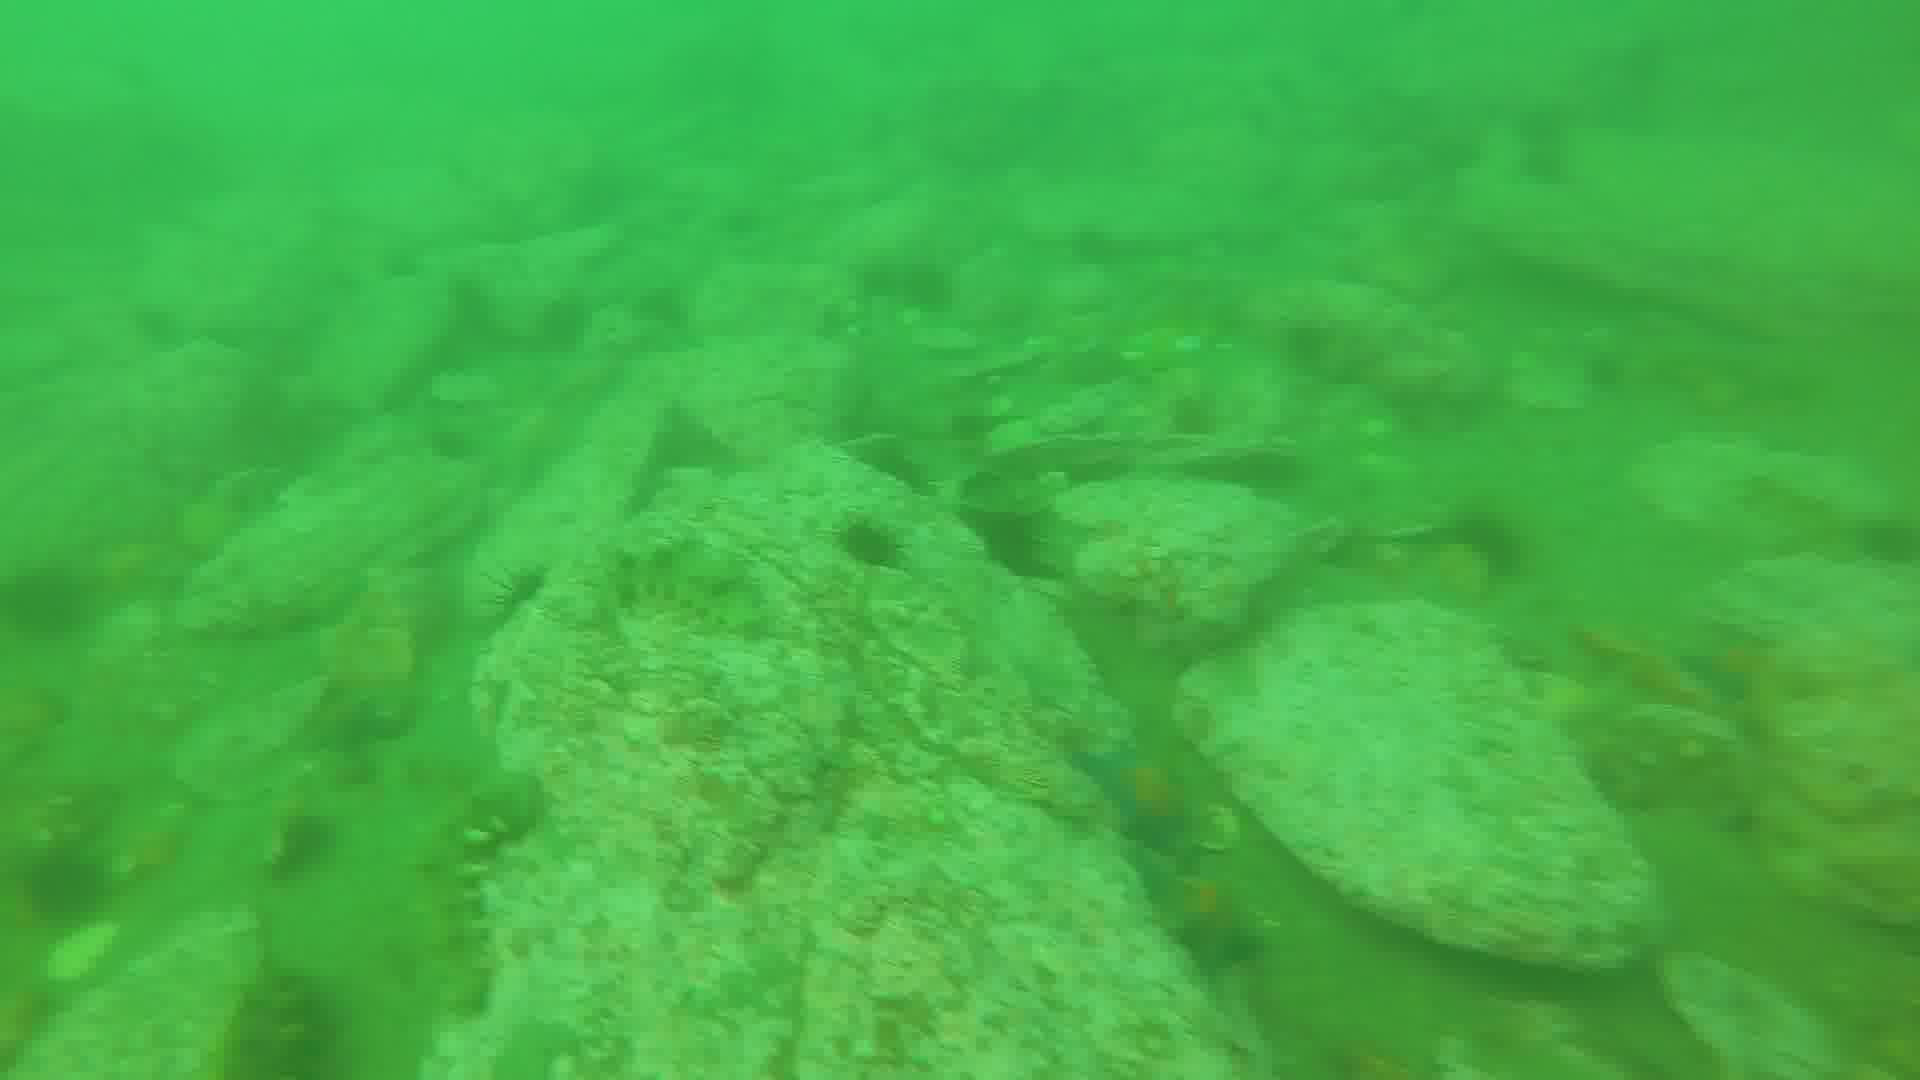echinus: (1455, 506, 1528, 589), (977, 512, 1052, 585), (831, 516, 907, 585), (488, 566, 553, 634), (1073, 336, 1138, 390), (1855, 512, 1912, 571), (537, 298, 593, 351), (1585, 339, 1635, 397)
holothurian: (410, 771, 541, 1007), (587, 542, 771, 626)
starfish: (1076, 735, 1208, 866), (1143, 858, 1261, 969), (1677, 622, 1778, 711)
